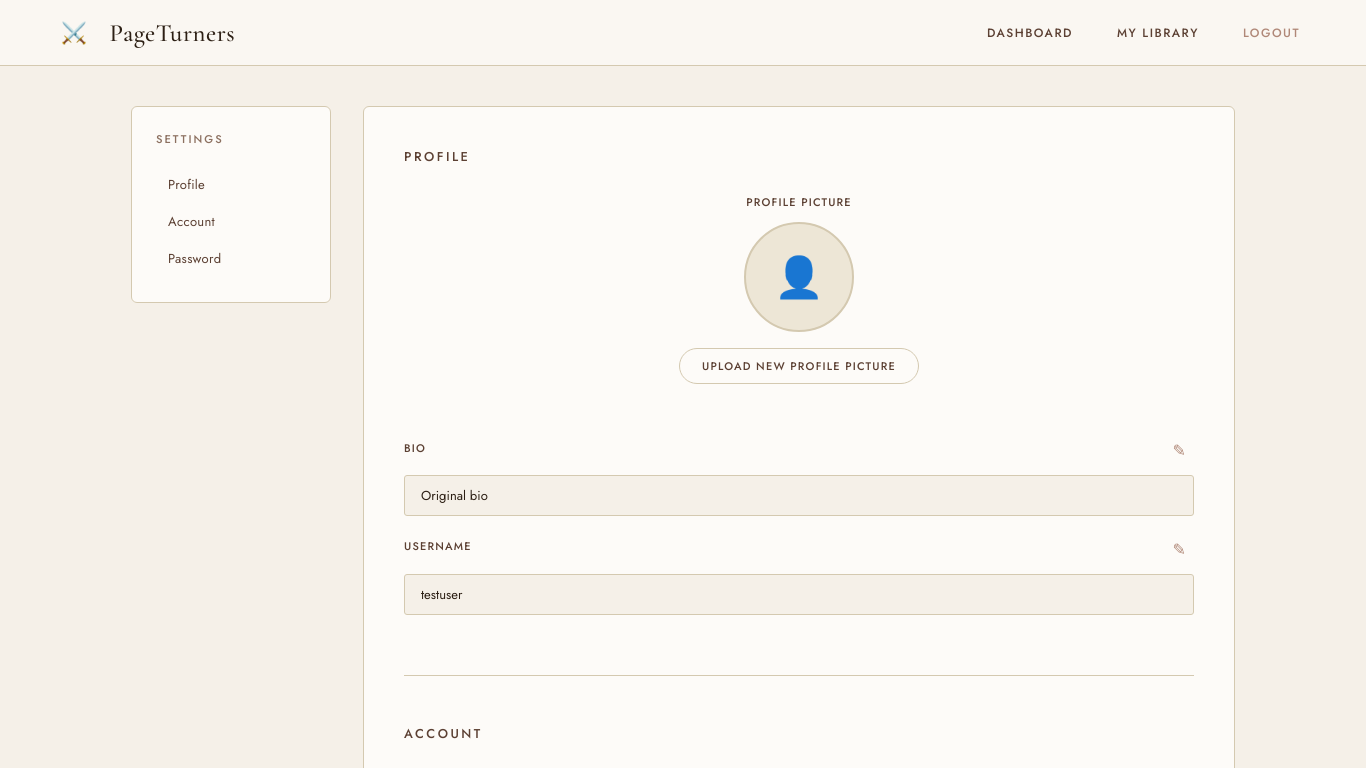
Test case: Update Profile Fields › Should show error when username is already taken
expect the text "testuser" is shown: met, box [404,574,1194,615]
Click the button titled "Edit" in the row of "Username" at (1179, 549), box [1165,536,1194,562]
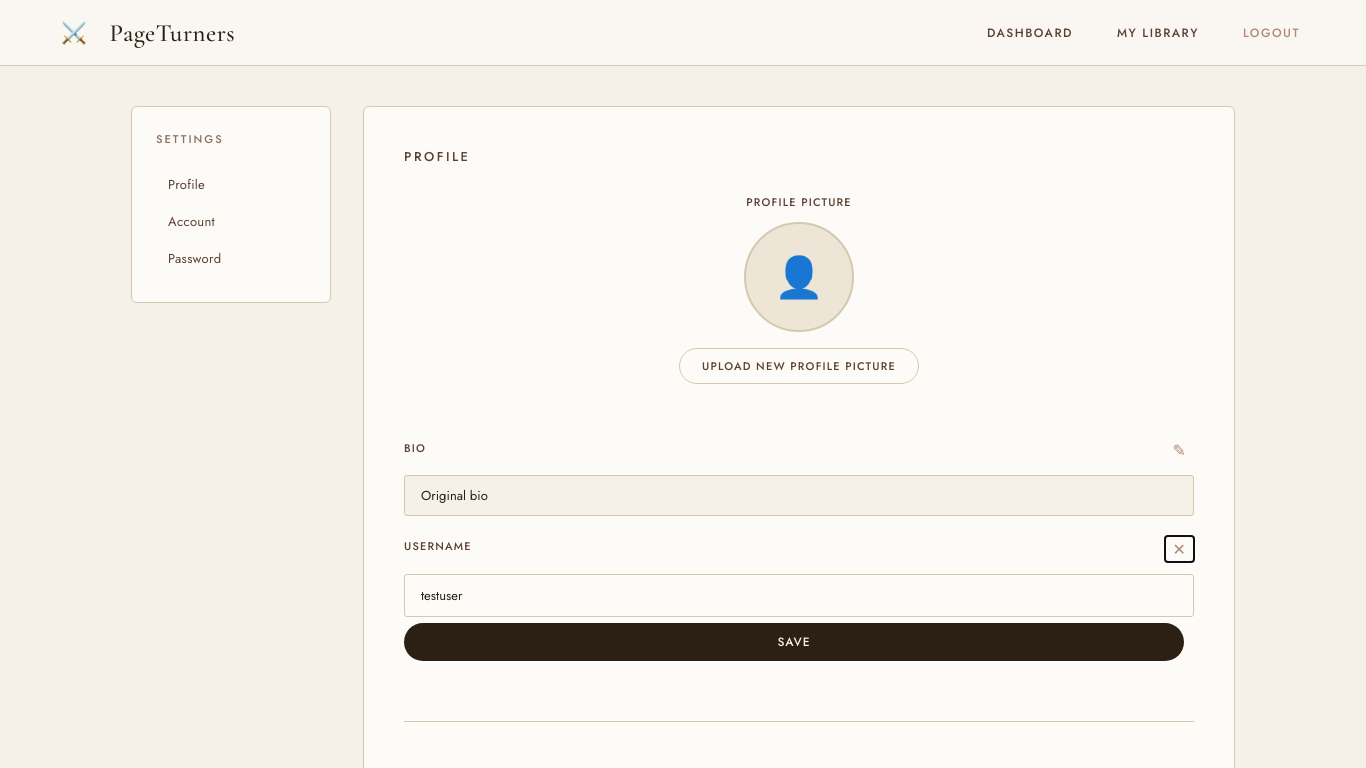
Replace the text in the field with placeholder "Your username" with "existinguser" at (799, 595), box [404,574,1194,617]
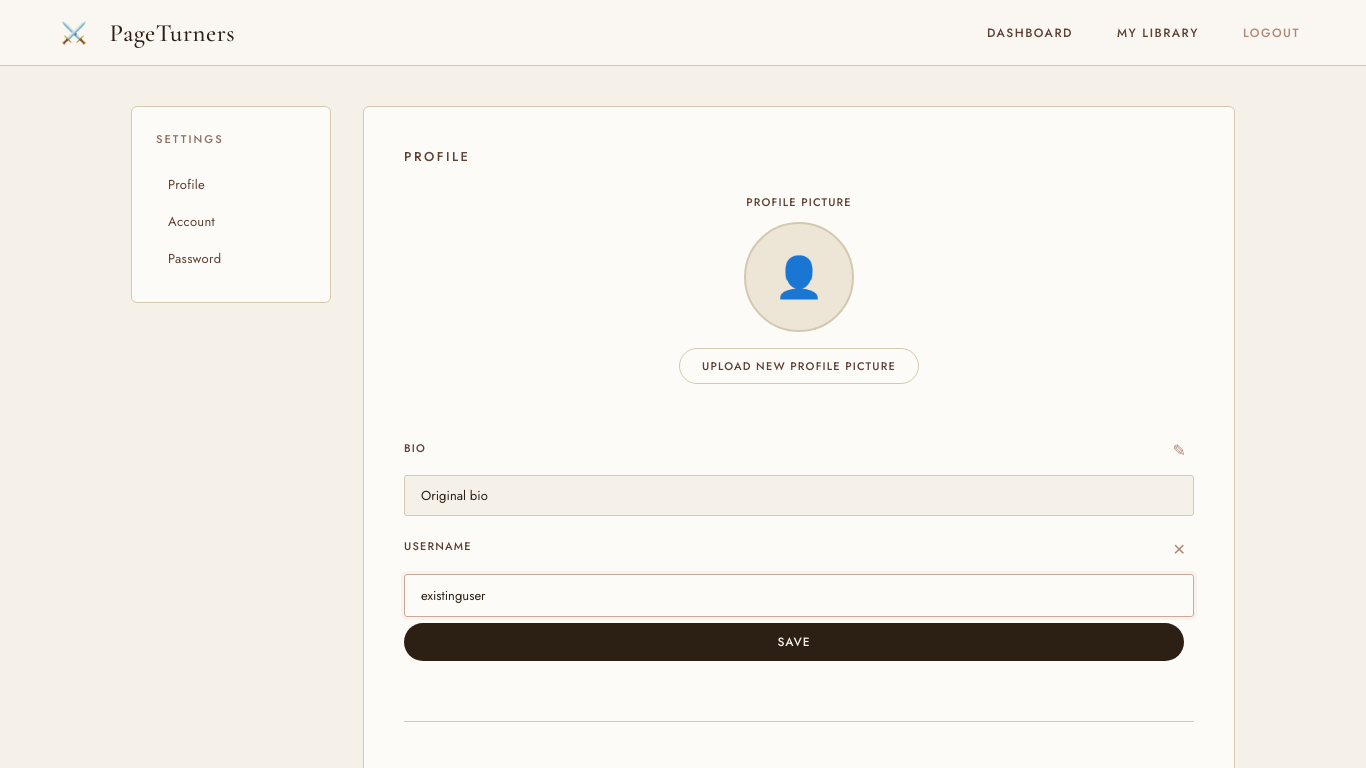
Click the button "Save" at (794, 642), box [404,623,1184,661]
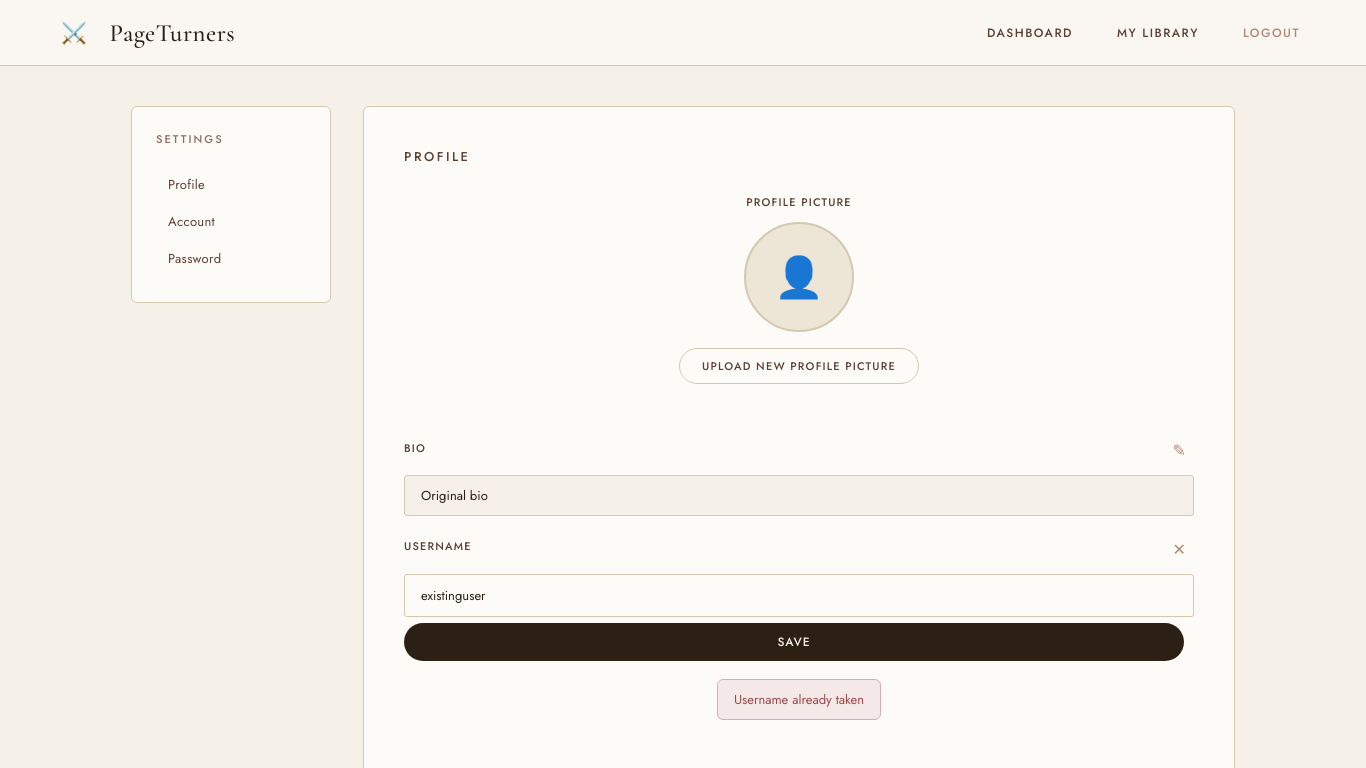
expect the text "Username already taken" is shown: met, box [717,679,881,720]
